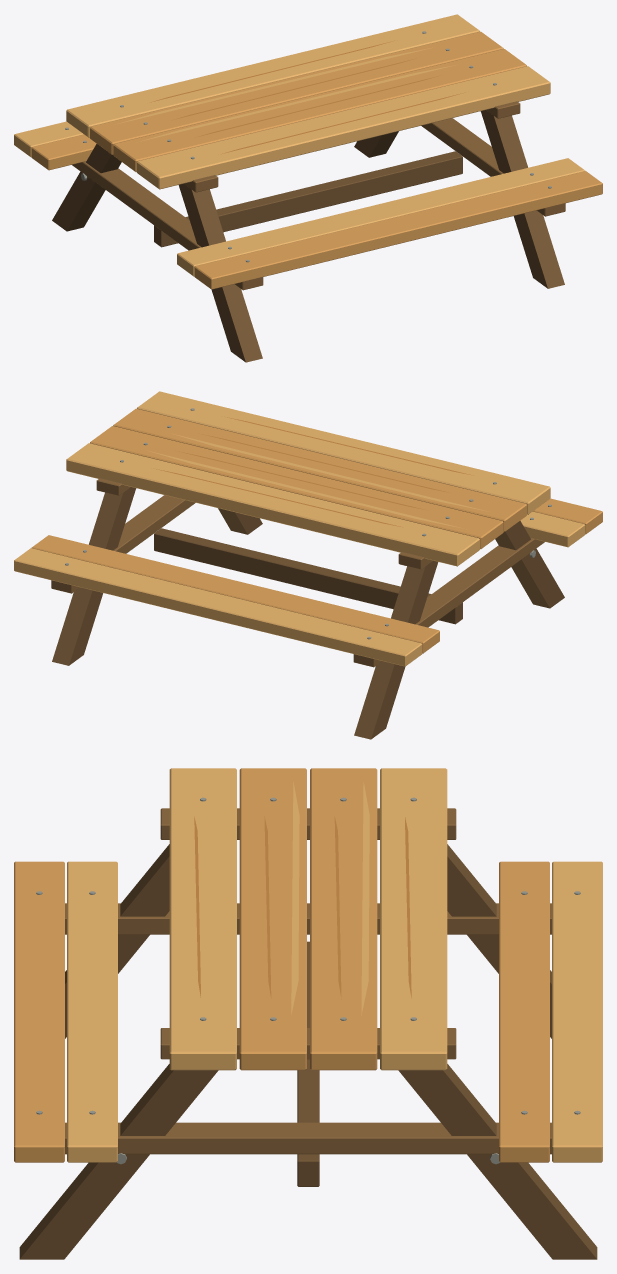
File: ft_picnic_aframe_p1_v1.glb
3 renders of one model, top to bottom at view 1: azimuth 30°, elevation 25°; view 2: azimuth 150°, elevation 25°; view 3: azimuth 270°, elevation 25°, orthographic. The views are drawn at different scales.
Visible parts, largest first — view 1: ft_picnic_aframe_p1_v1; view 2: ft_picnic_aframe_p1_v1; view 3: ft_picnic_aframe_p1_v1.
Part boxes in pixels (x1,y1,x2,y2): ft_picnic_aframe_p1_v1: [14, 14, 602, 362]; ft_picnic_aframe_p1_v1: [14, 391, 602, 739]; ft_picnic_aframe_p1_v1: [14, 768, 602, 1259].
Bounding box in the file's own units: 1.96 × 0.754 × 1.71.
Materials: 1 (1 with a texture image).
